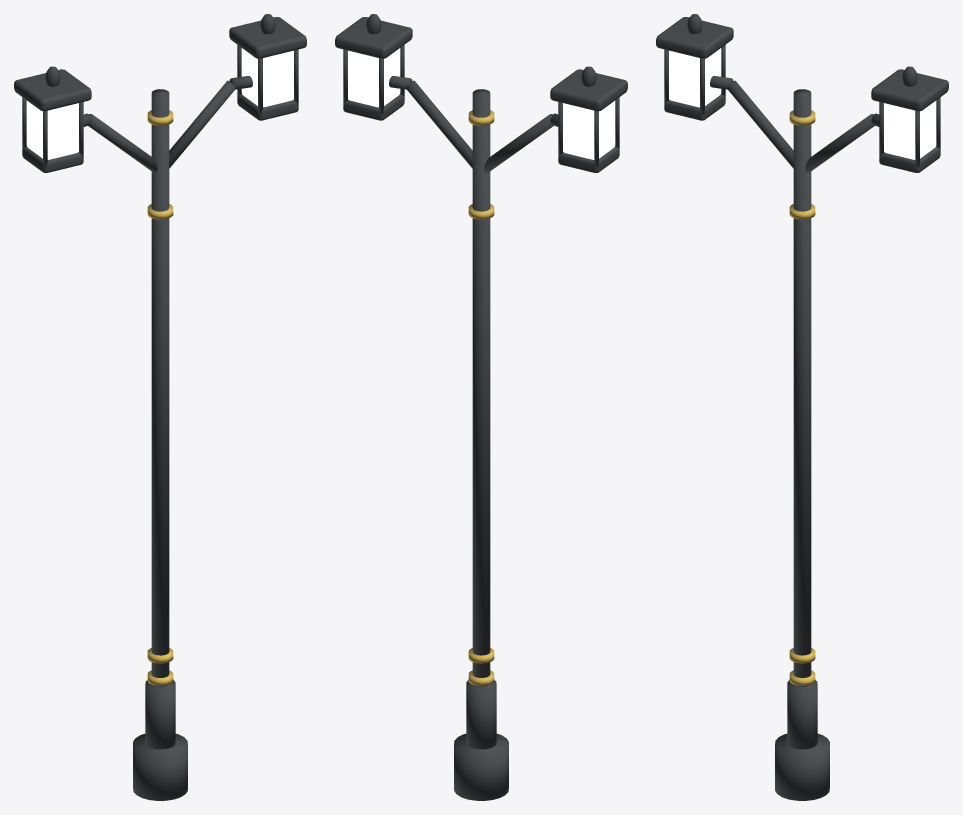
Rendered from lamp.glb.
3 views of the same model, side by side, from view 1: azimuth 30°, elevation 25°; view 2: azimuth 150°, elevation 25°; view 3: azimuth 330°, elevation 25° (orthographic).
Parts seen in each view (by area): view 1: Chassis graphite, Headlamp lens, Gilded rooftop ornament; view 2: Chassis graphite, Headlamp lens, Gilded rooftop ornament; view 3: Chassis graphite, Headlamp lens, Gilded rooftop ornament.
Part boxes in pixels (box(x1,y1,x2,y2)): Chassis graphite: box(14, 14, 306, 800); Headlamp lens: box(26, 48, 293, 159); Gilded rooftop ornament: box(147, 110, 173, 685); Chassis graphite: box(335, 14, 627, 800); Headlamp lens: box(348, 48, 615, 159); Gilded rooftop ornament: box(468, 110, 494, 685); Chassis graphite: box(656, 14, 948, 800); Headlamp lens: box(669, 48, 936, 159); Gilded rooftop ornament: box(789, 110, 815, 685).
Bounding box in the file's own units: 2.23 × 5.99 × 0.43.
